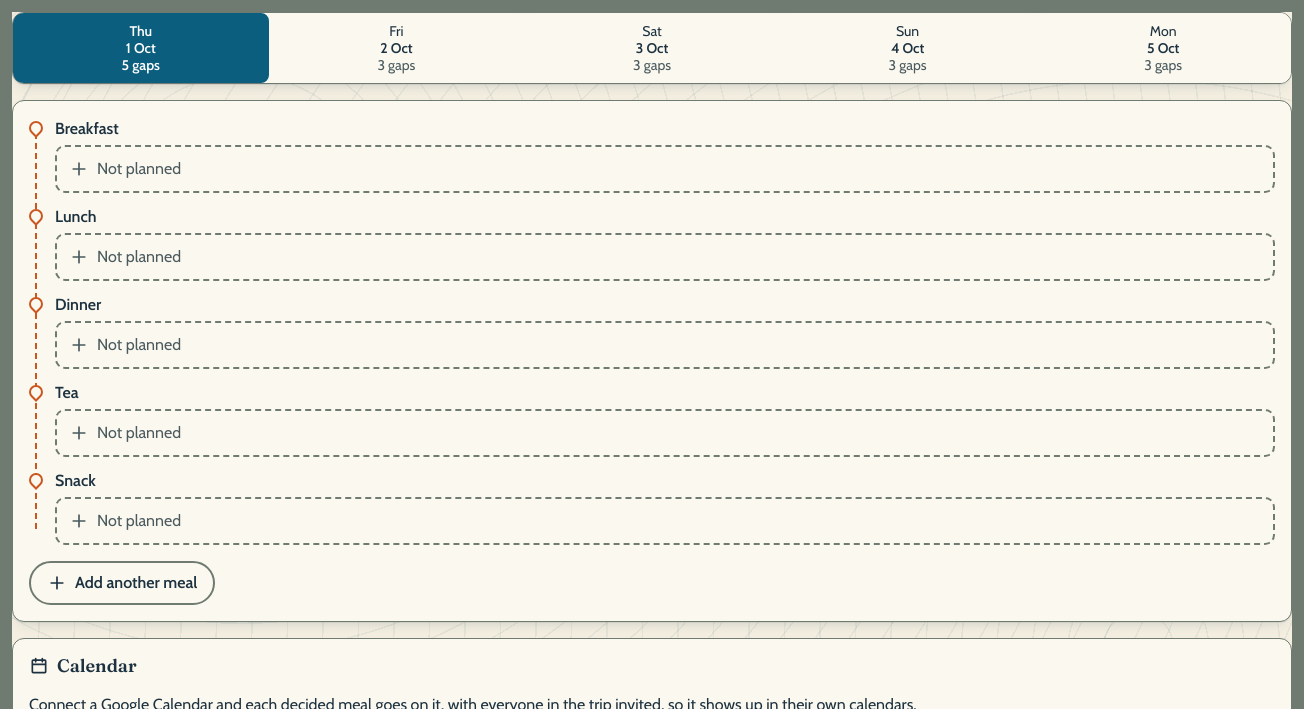
Test: moving an other meal (#40) › cannot move past either end of the day
This screenshot has width=1304, height=709.
Click the button "Snack Not planned" at (665, 507), box [55,469,1275,545]
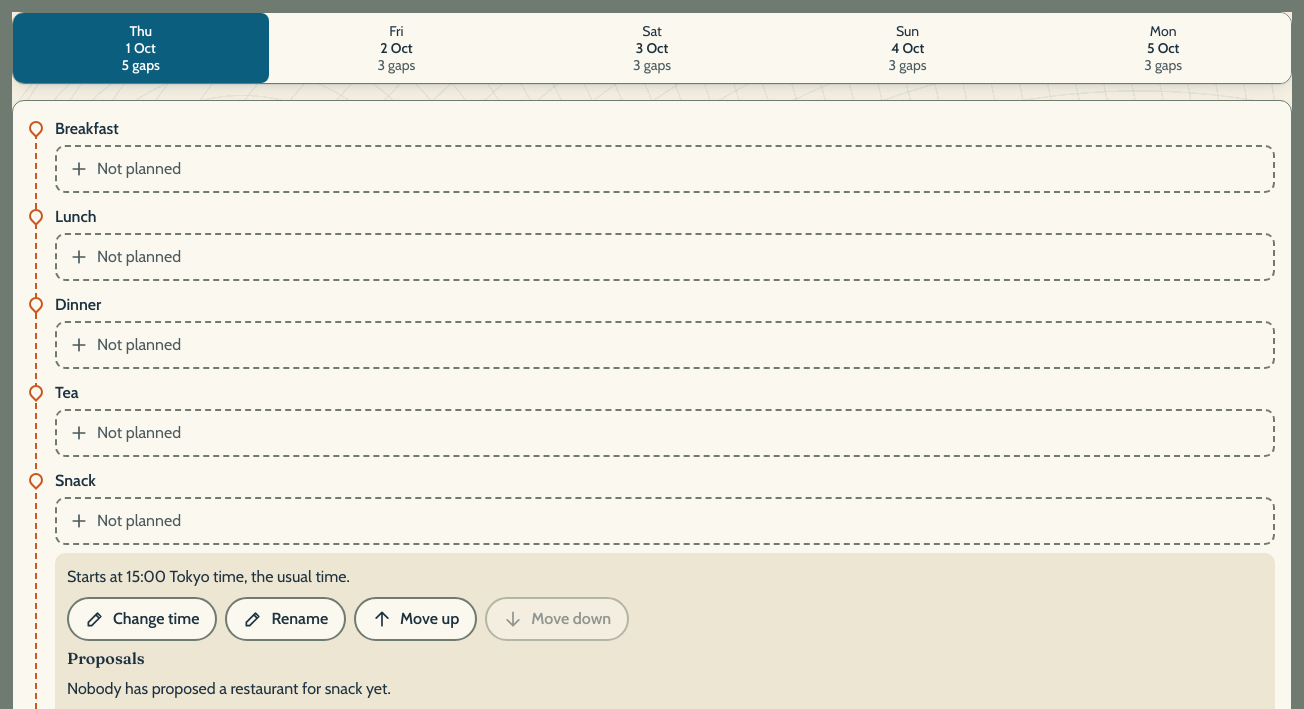
Check: the button "Move down" is disabled, box [485,597,629,641]
Check: the button "Move up" is enabled
Click the button "Move up" at (416, 619), box [354,597,477,641]
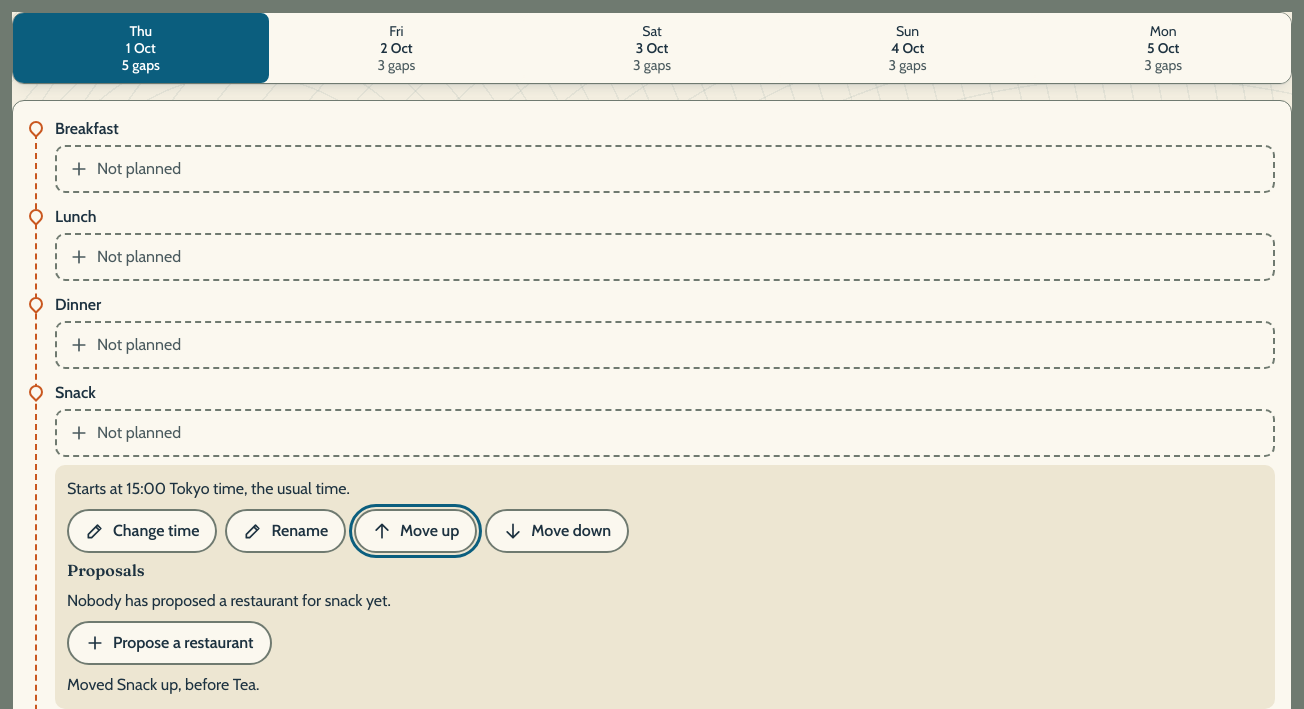
Click the button "Move up" at (416, 531), box [354,509,477,553]
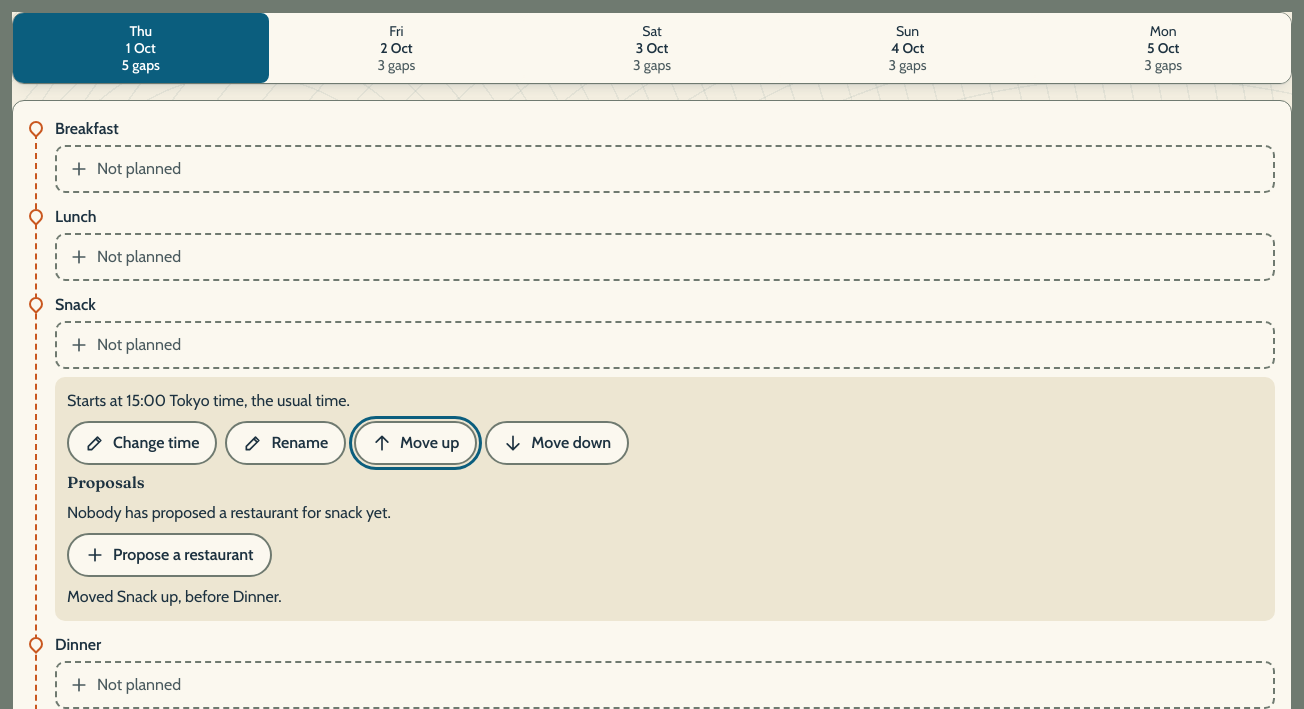
Click the button "Move up" at (416, 443), box [354,421,477,465]
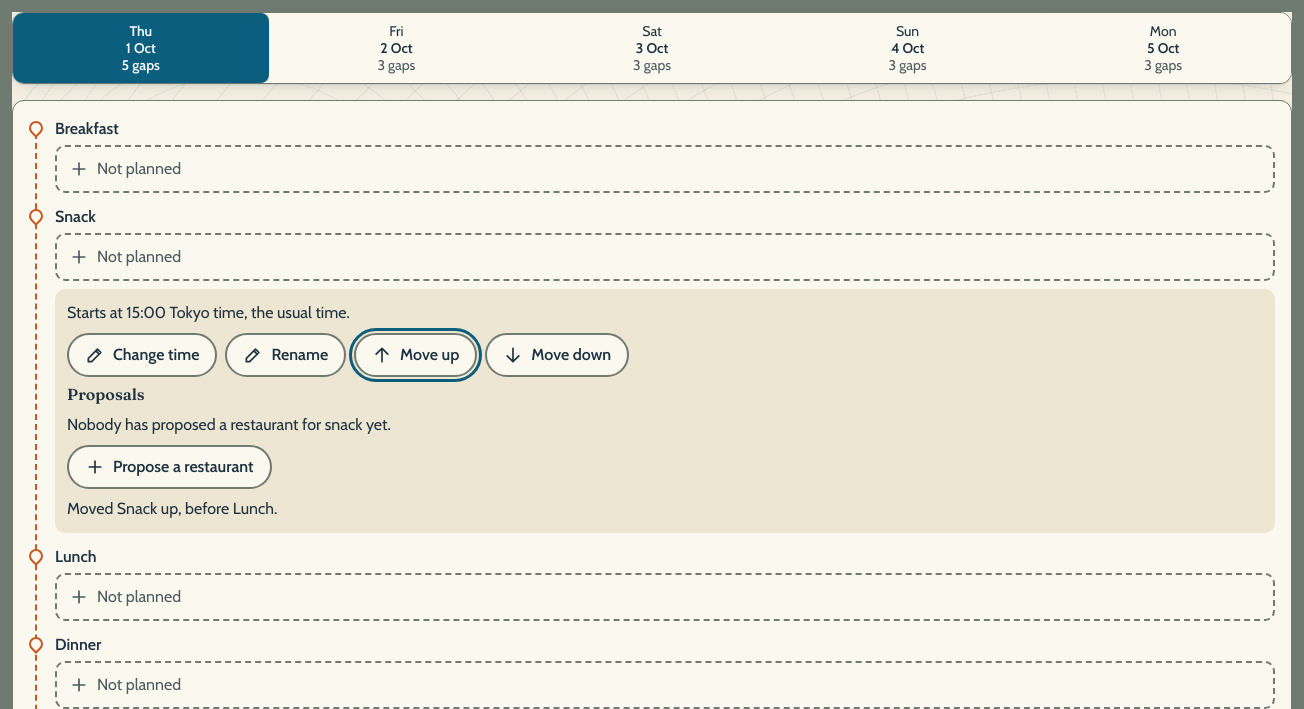
Click the button "Move up" at (416, 355), box [354,333,477,377]
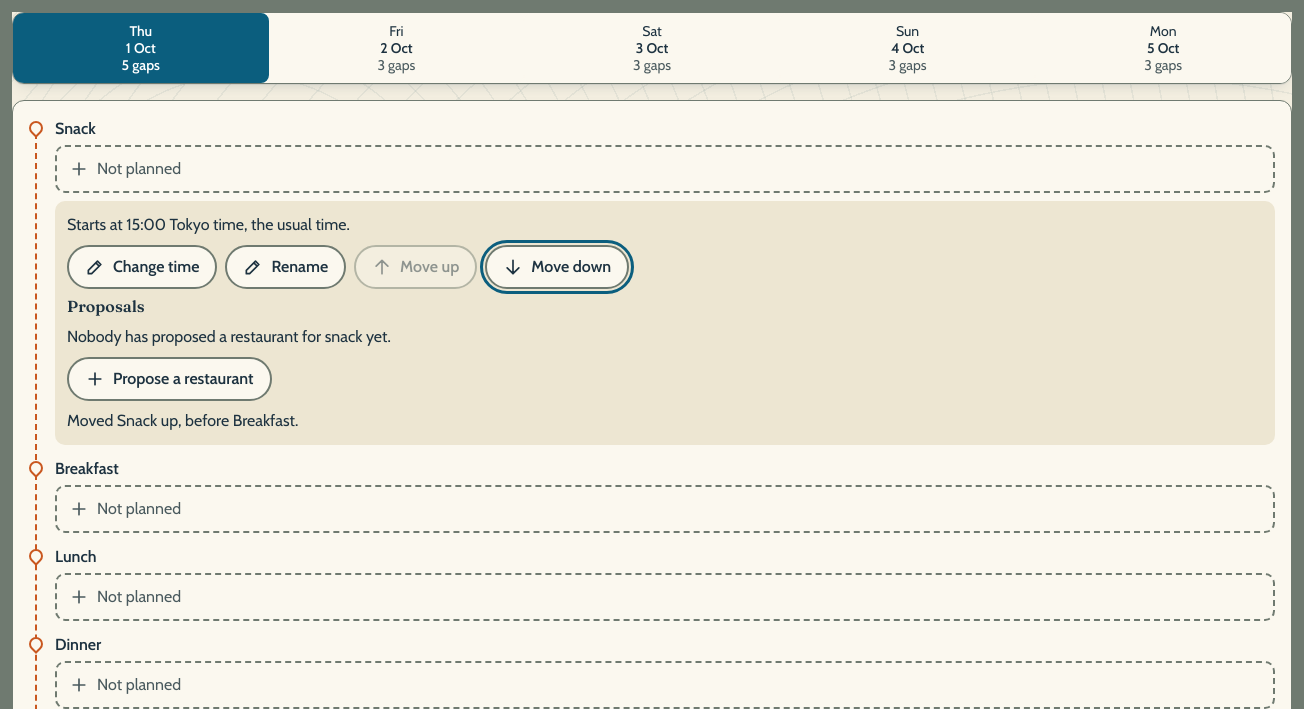
Check: the text with class "slot-name" reads "Snack", box [55,119,96,138]
Check: the button "Move up" is disabled, box [354,245,477,289]
